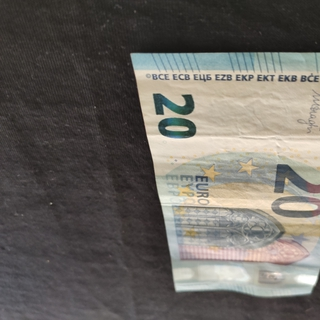20EUROFront: (127, 50, 320, 299)
